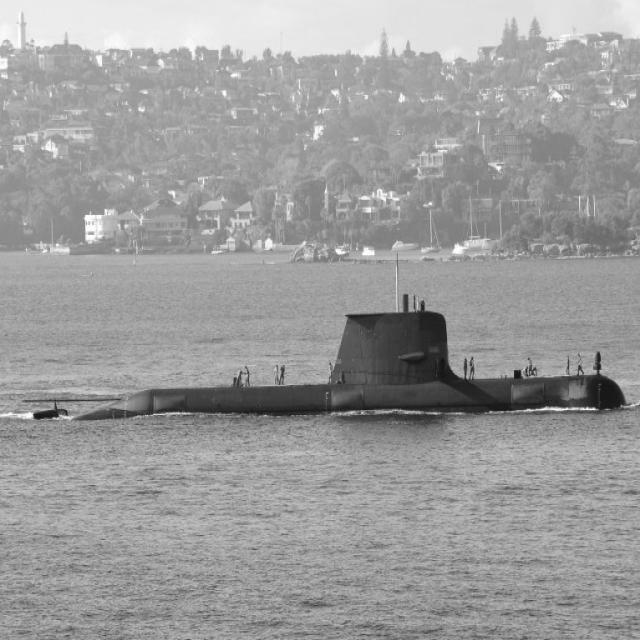submarine: (33, 310, 631, 421)
